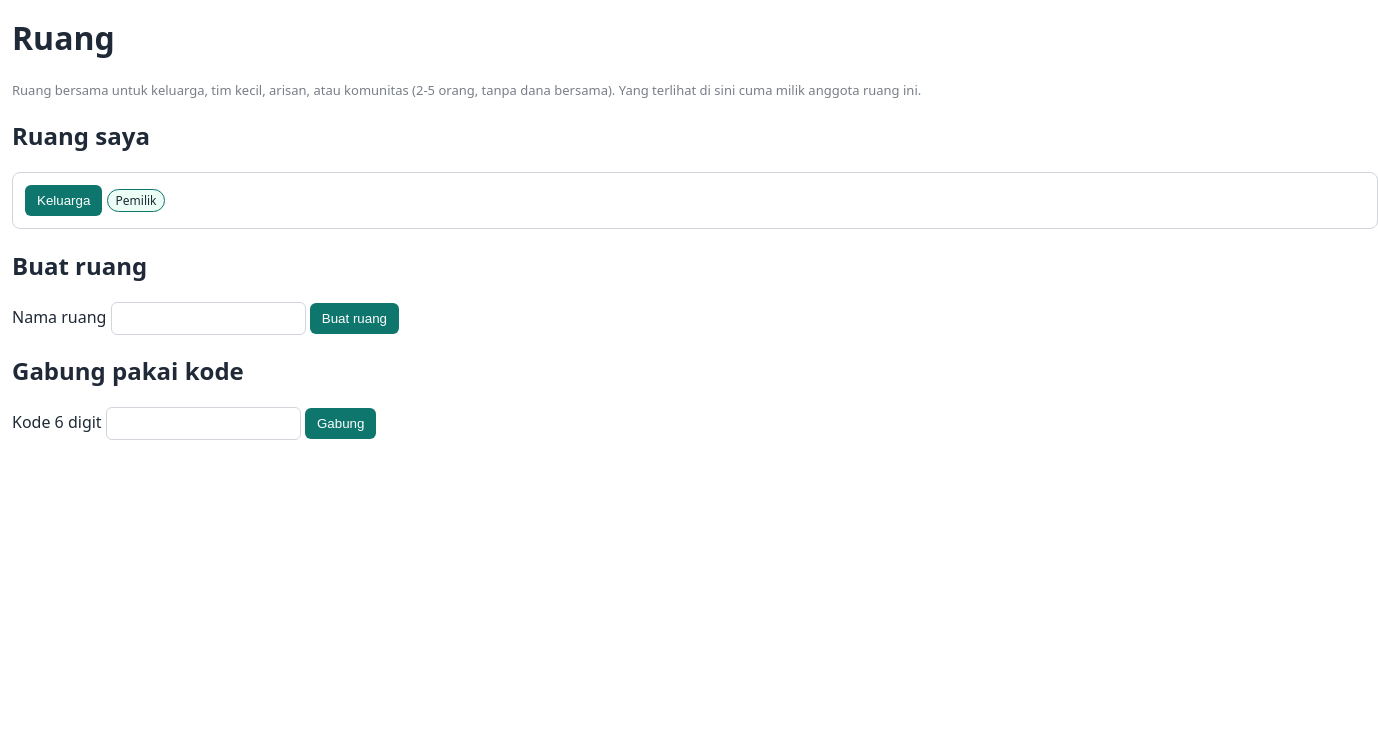
Test: RoomsScreen group chat names (V2-27) › renders the decision's agreed-by ids as names
The width and height of the screenshot is (1378, 751).
Click the button "Keluarga" at (64, 200), box [25, 185, 102, 216]
(page scrolled)
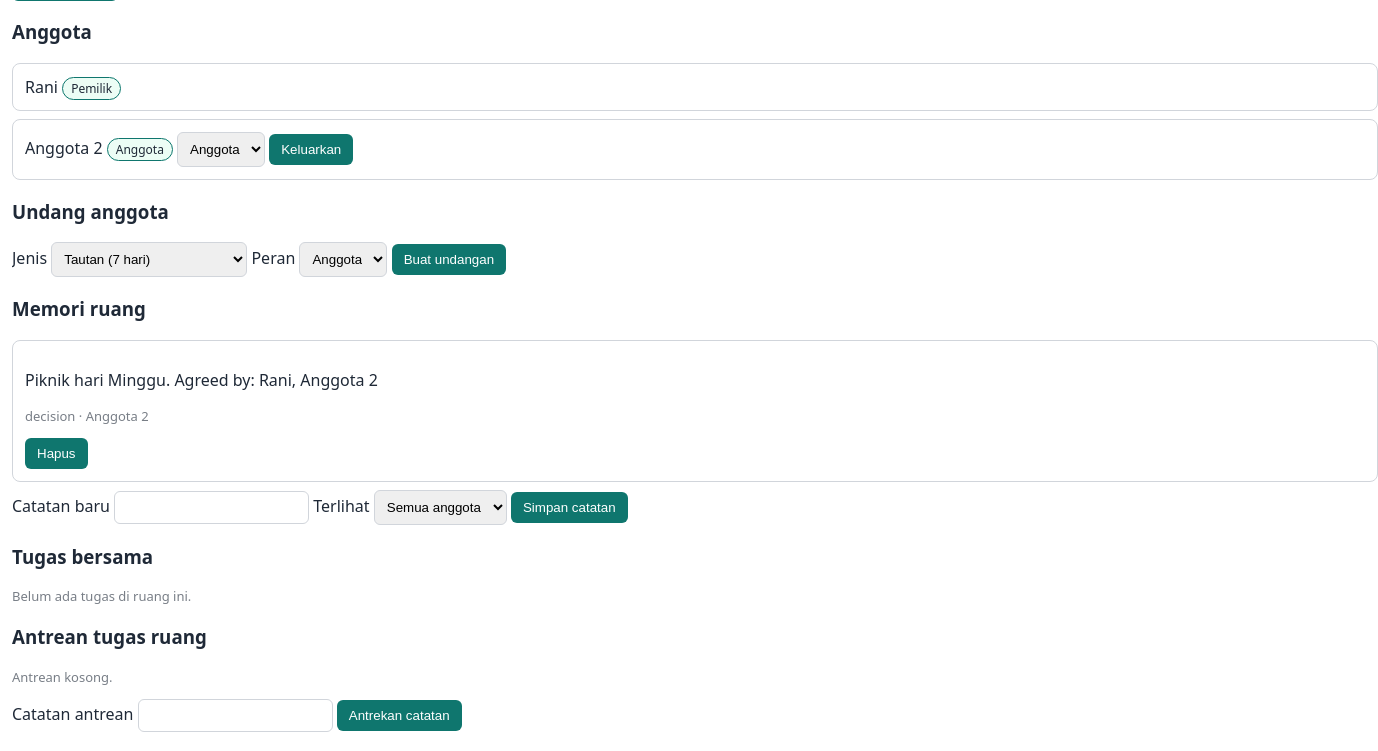
expect the text "Piknik hari Minggu. Agreed by: Rani, Anggota 2" is shown: met, box [25, 369, 378, 391]
